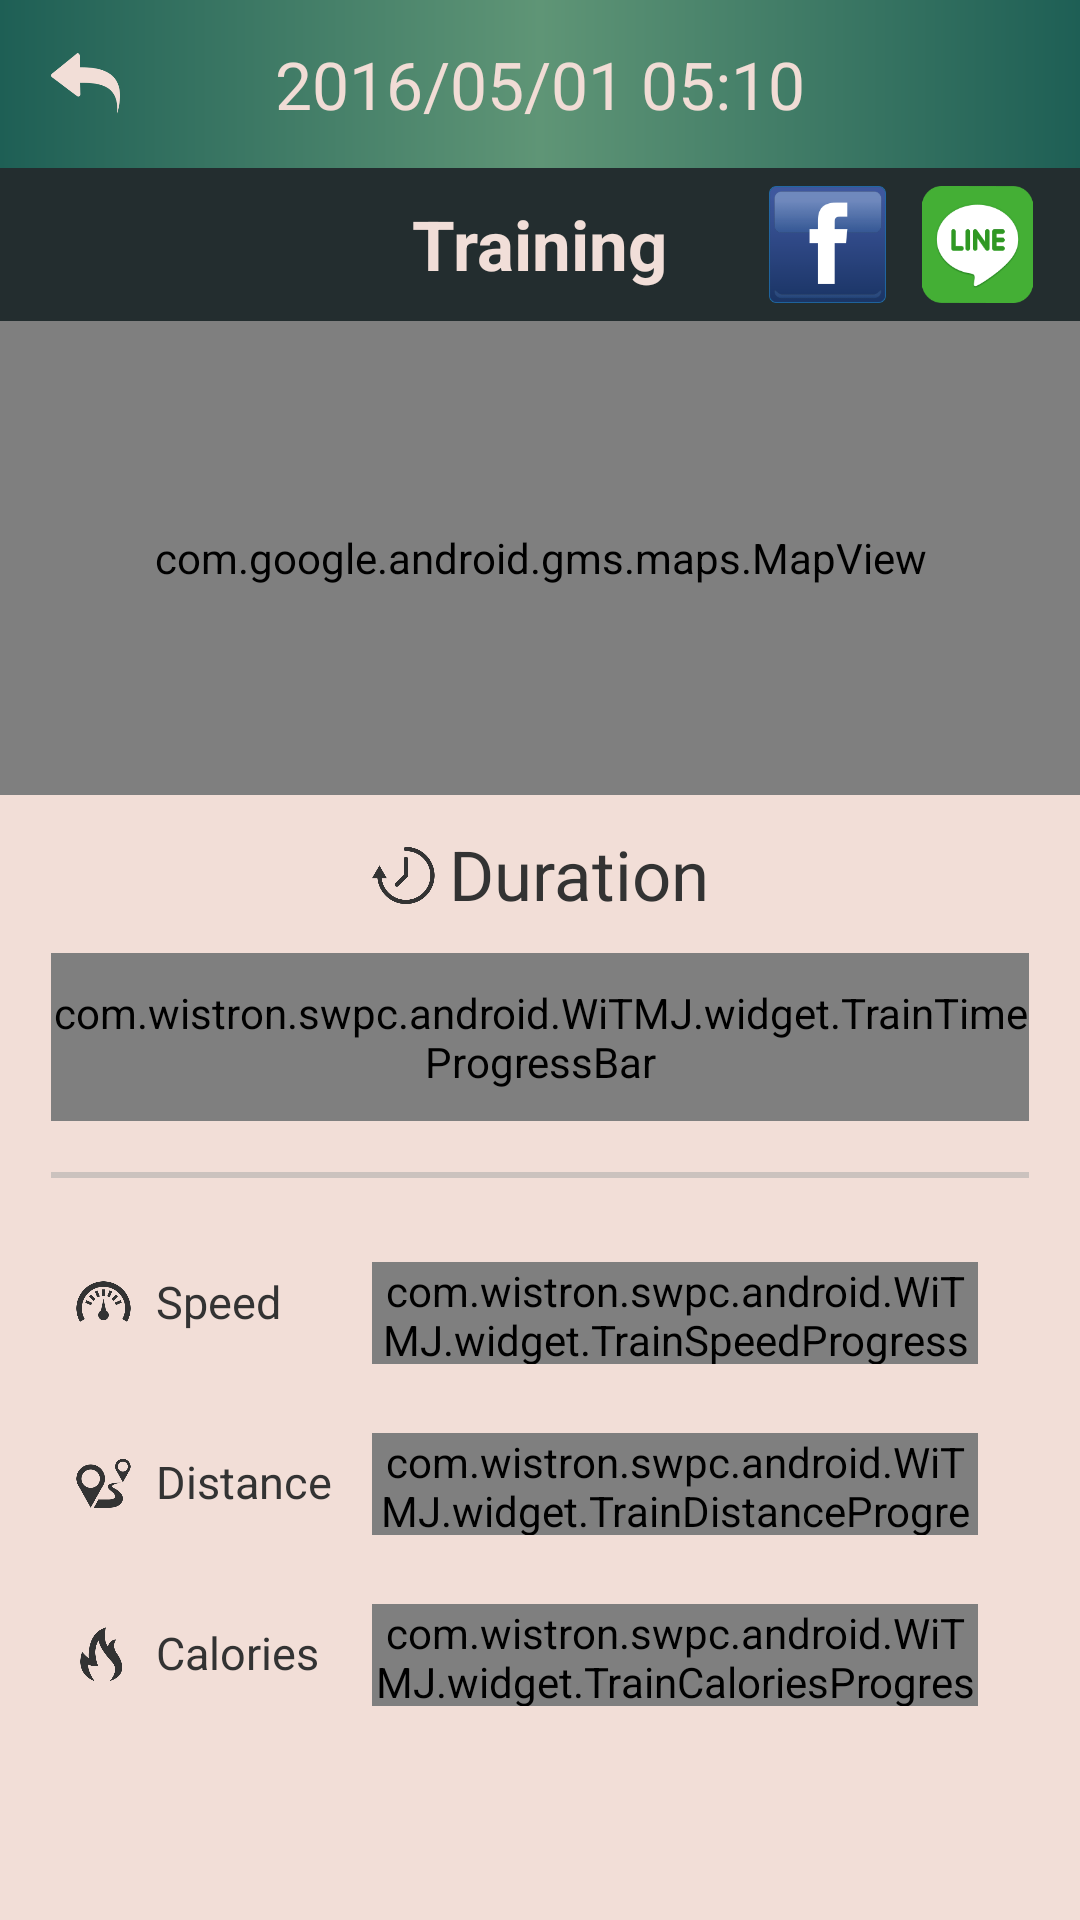

Icons on this 1080*1920 Android screen, each with its box as (x1,y1,x2,y2):
back: (51,53,120,113)
